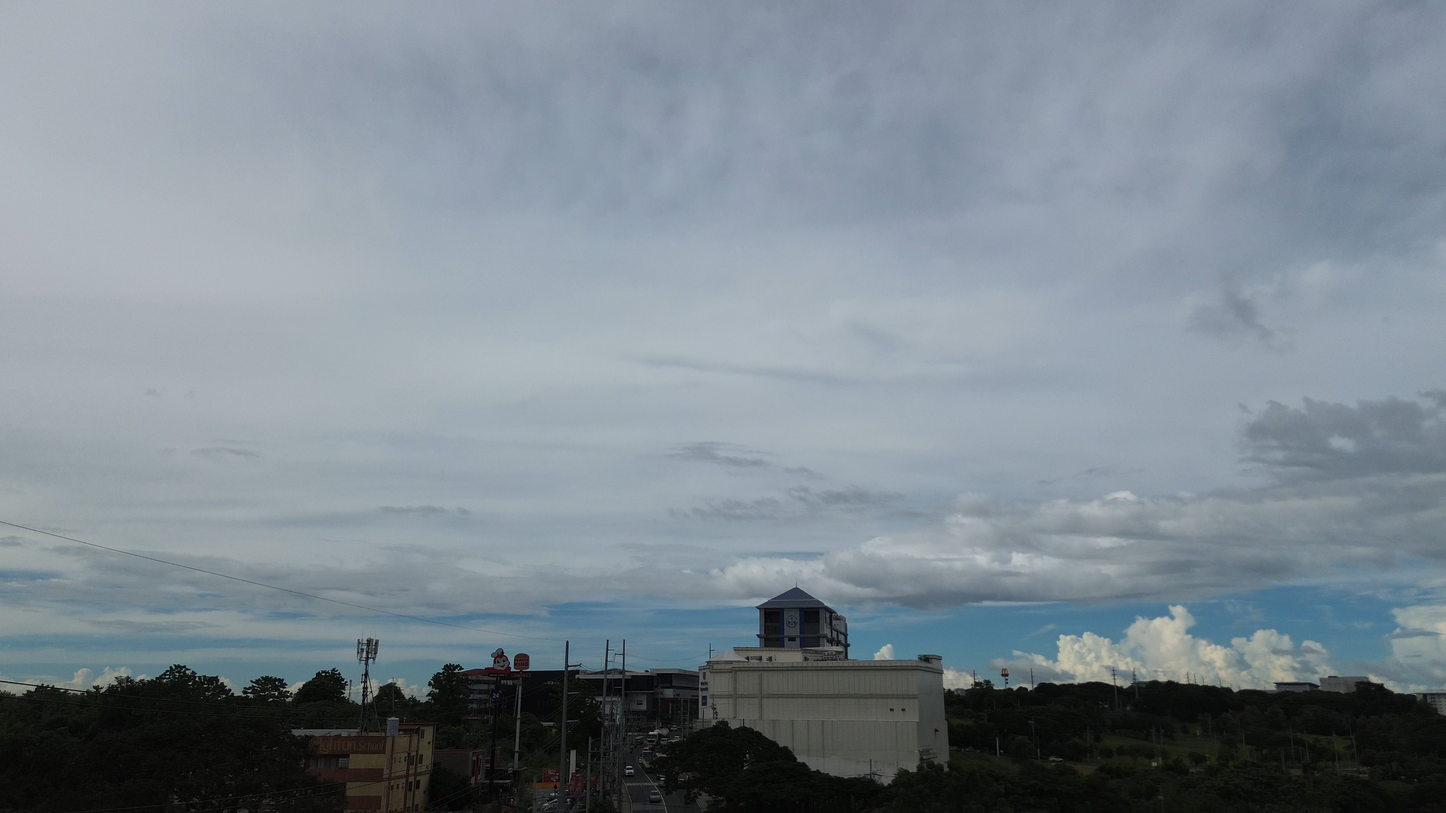car: (648, 789, 662, 803), (624, 764, 635, 776), (1048, 756, 1064, 762)
